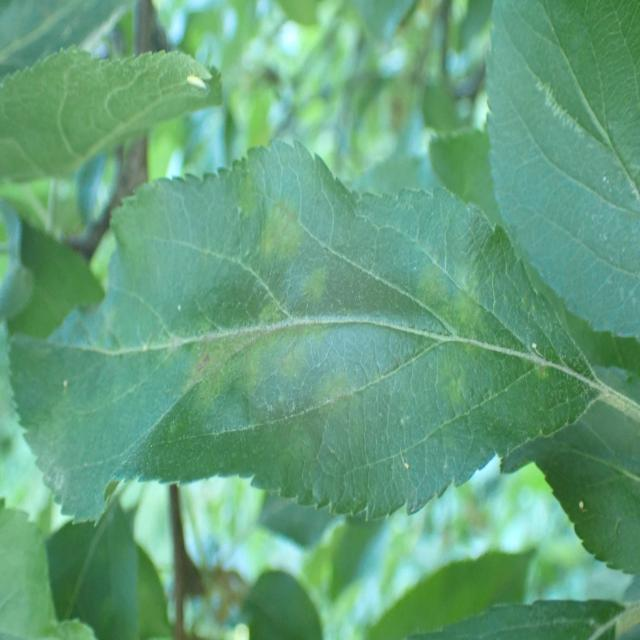scab: (41, 191, 548, 490)
